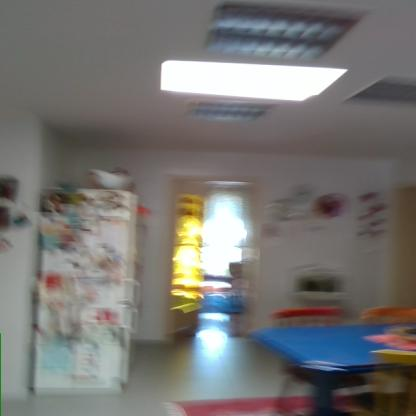semi: (154, 170, 267, 365)
